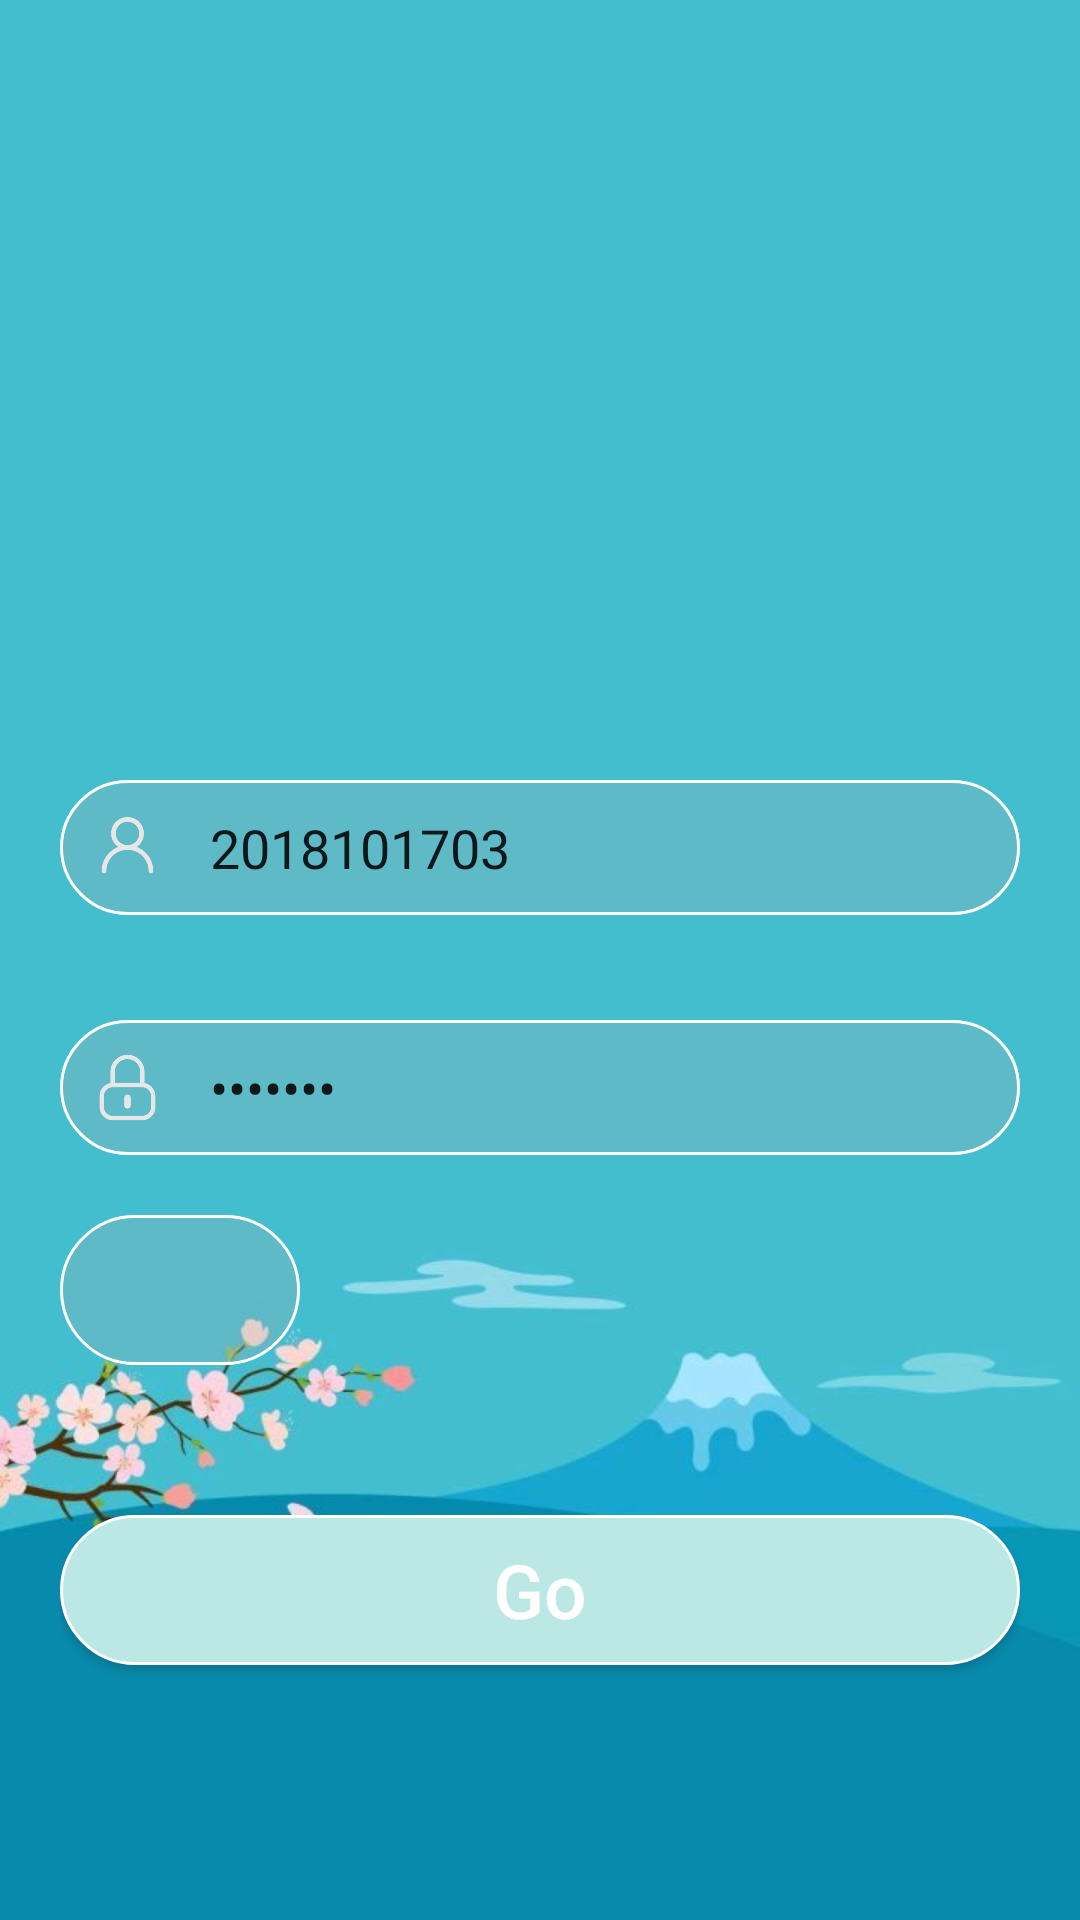

Screen size 1080x1920. Icon name, then its center in pixels as [x,y]:
login account: [127,845]
login password: [127,1087]
